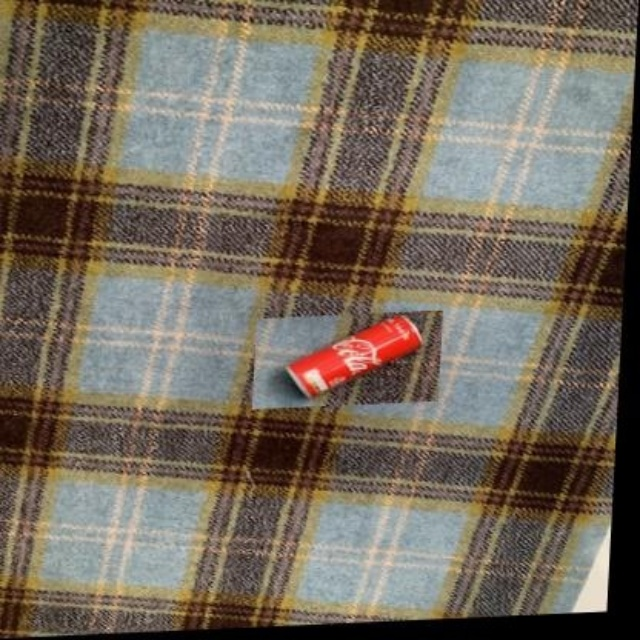trash: (286, 315, 422, 395)
